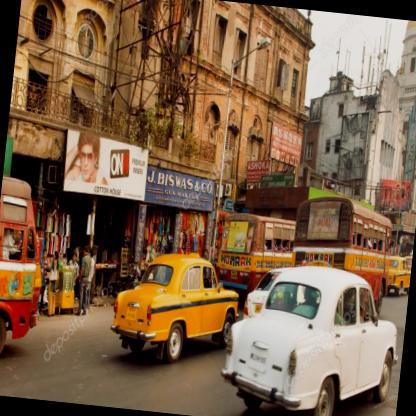bus: (286, 192, 396, 316), (0, 168, 54, 371), (214, 210, 295, 300)
car: (220, 260, 405, 415), (109, 249, 240, 368), (384, 253, 412, 298)
